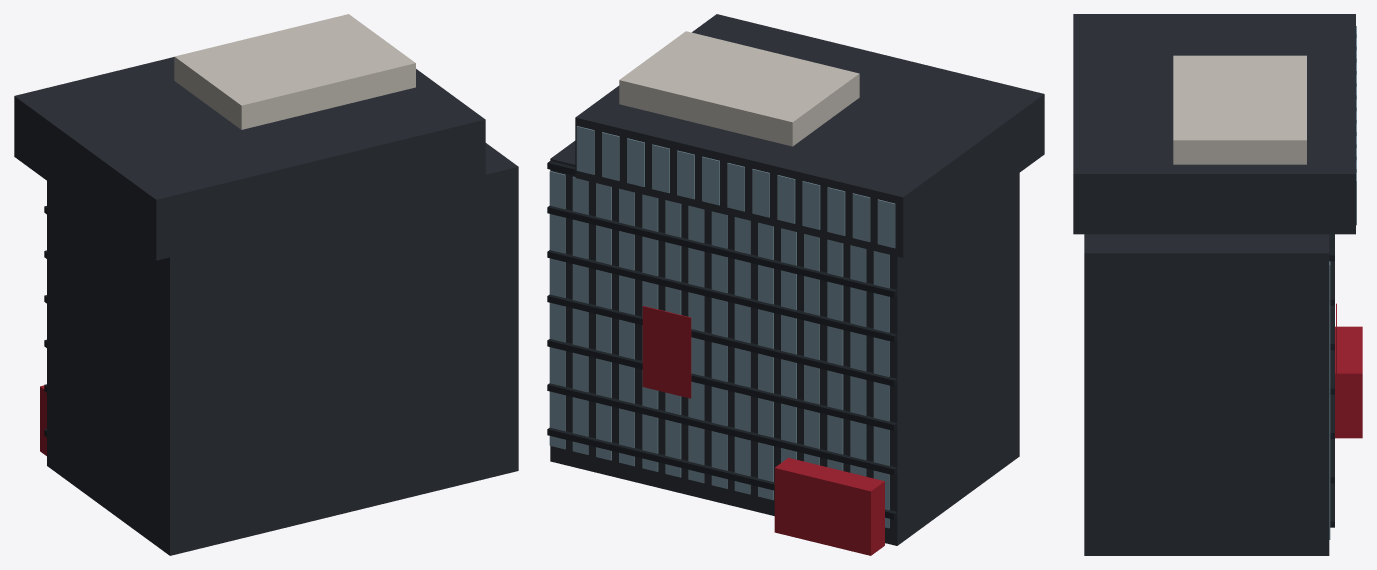
File: lse.glb
3 views of the same model, side by side, from view 1: azimuth 30°, elevation 25°; view 2: azimuth 150°, elevation 25°; view 3: azimuth 270°, elevation 25° (orthographic).
Visible parts, largest first — view 1: lse; view 2: lse; view 3: lse.
Boxes of the visible parts, box(x1,y1,x2,y2) form: lse: box(14, 14, 518, 555); lse: box(547, 14, 1044, 555); lse: box(1073, 14, 1362, 555).
Size of the model in its own units: 19 by 19.2 by 13.
